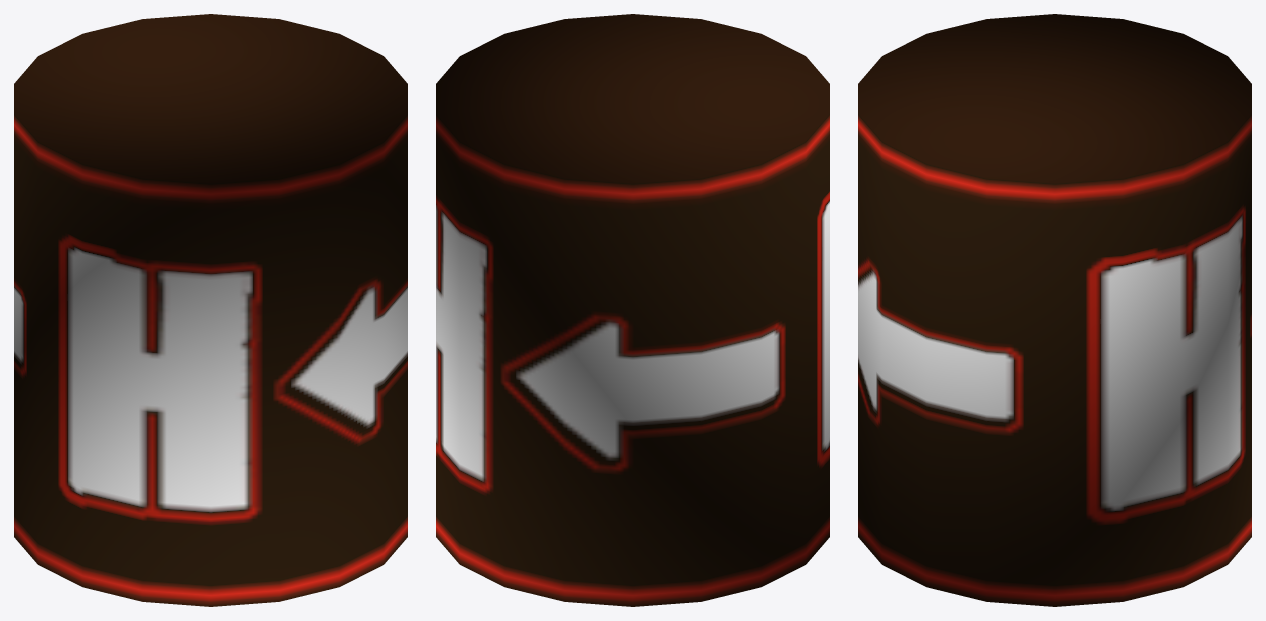
File: list.ico.obj
The picture shows the model from 3 angles, left to right: view 1: azimuth 30°, elevation 25°; view 2: azimuth 150°, elevation 25°; view 3: azimuth 270°, elevation 25°; orthographic projection.
Size of the model in its own units: 4.23 by 4.95 by 4.17.
1 material, 1 textured.
